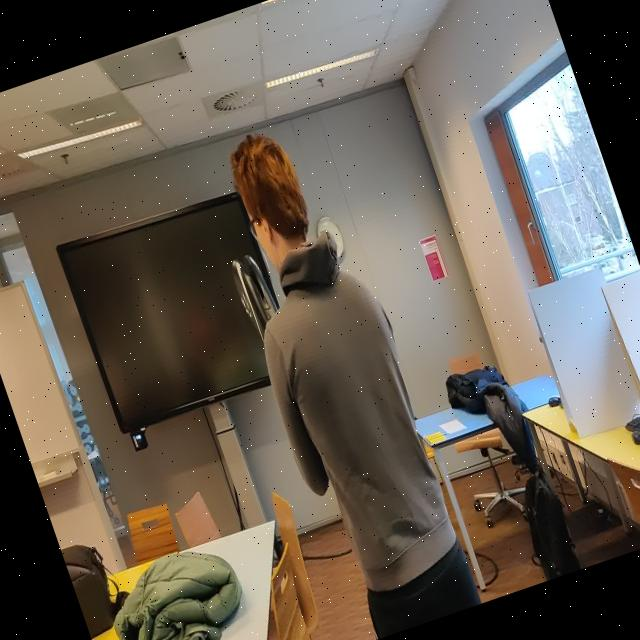paddle: (231, 253, 277, 341)
